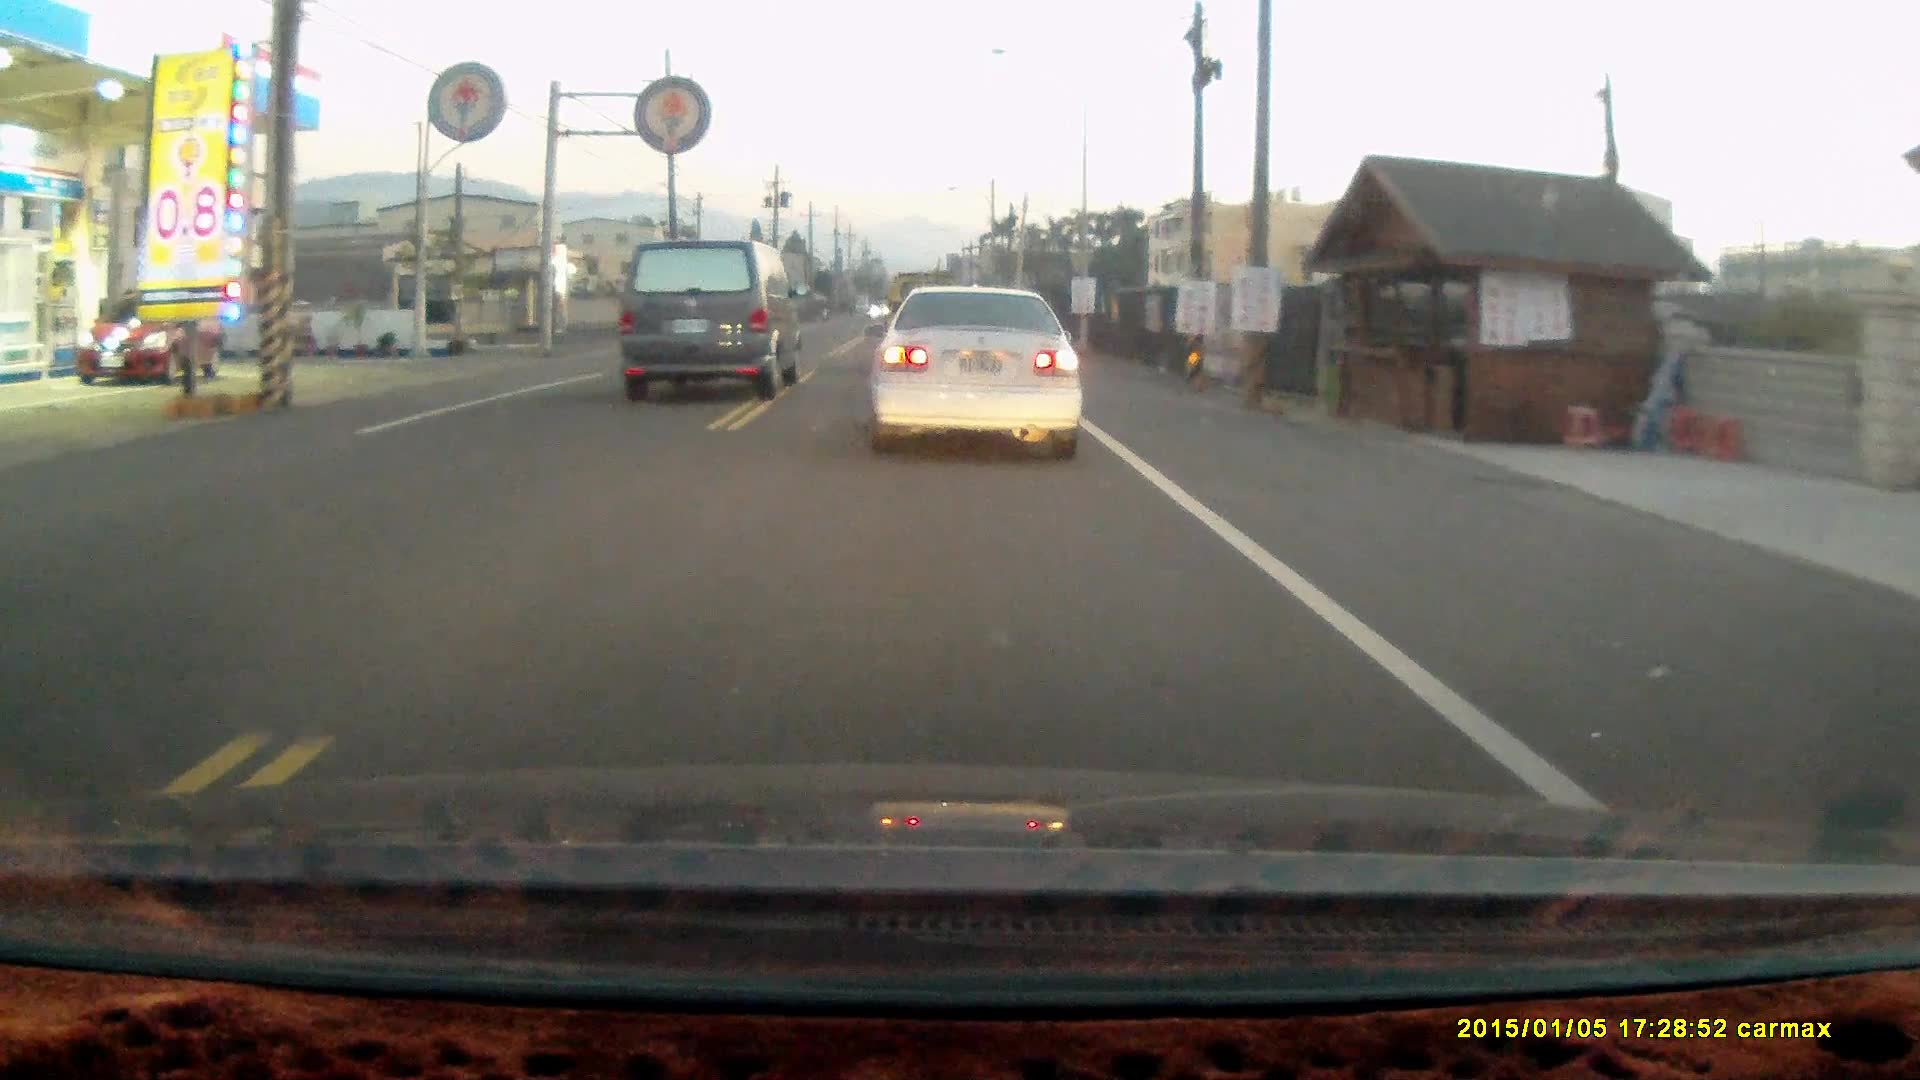vehicle: (862, 284, 1091, 465), (615, 237, 803, 400), (84, 293, 228, 392)
